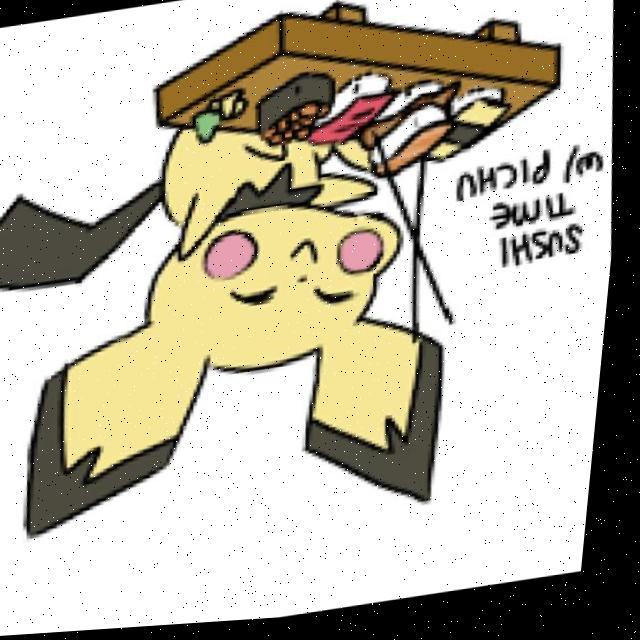pichu: (7, 188, 507, 564)
